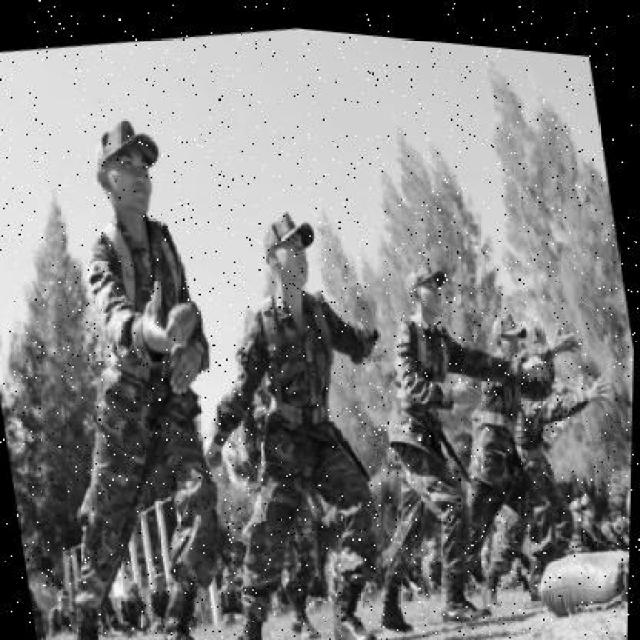MIL_Pax: (8, 106, 240, 640), (204, 169, 408, 640), (362, 218, 513, 636), (432, 277, 573, 537), (27, 563, 85, 640), (572, 467, 630, 539), (108, 558, 160, 638), (147, 554, 196, 631), (416, 523, 461, 583), (220, 561, 262, 622)
